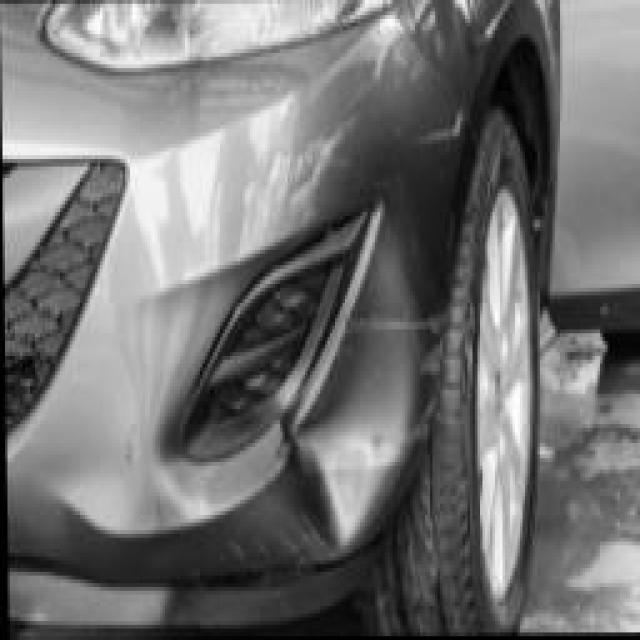Bumper: (102, 98, 453, 609)
